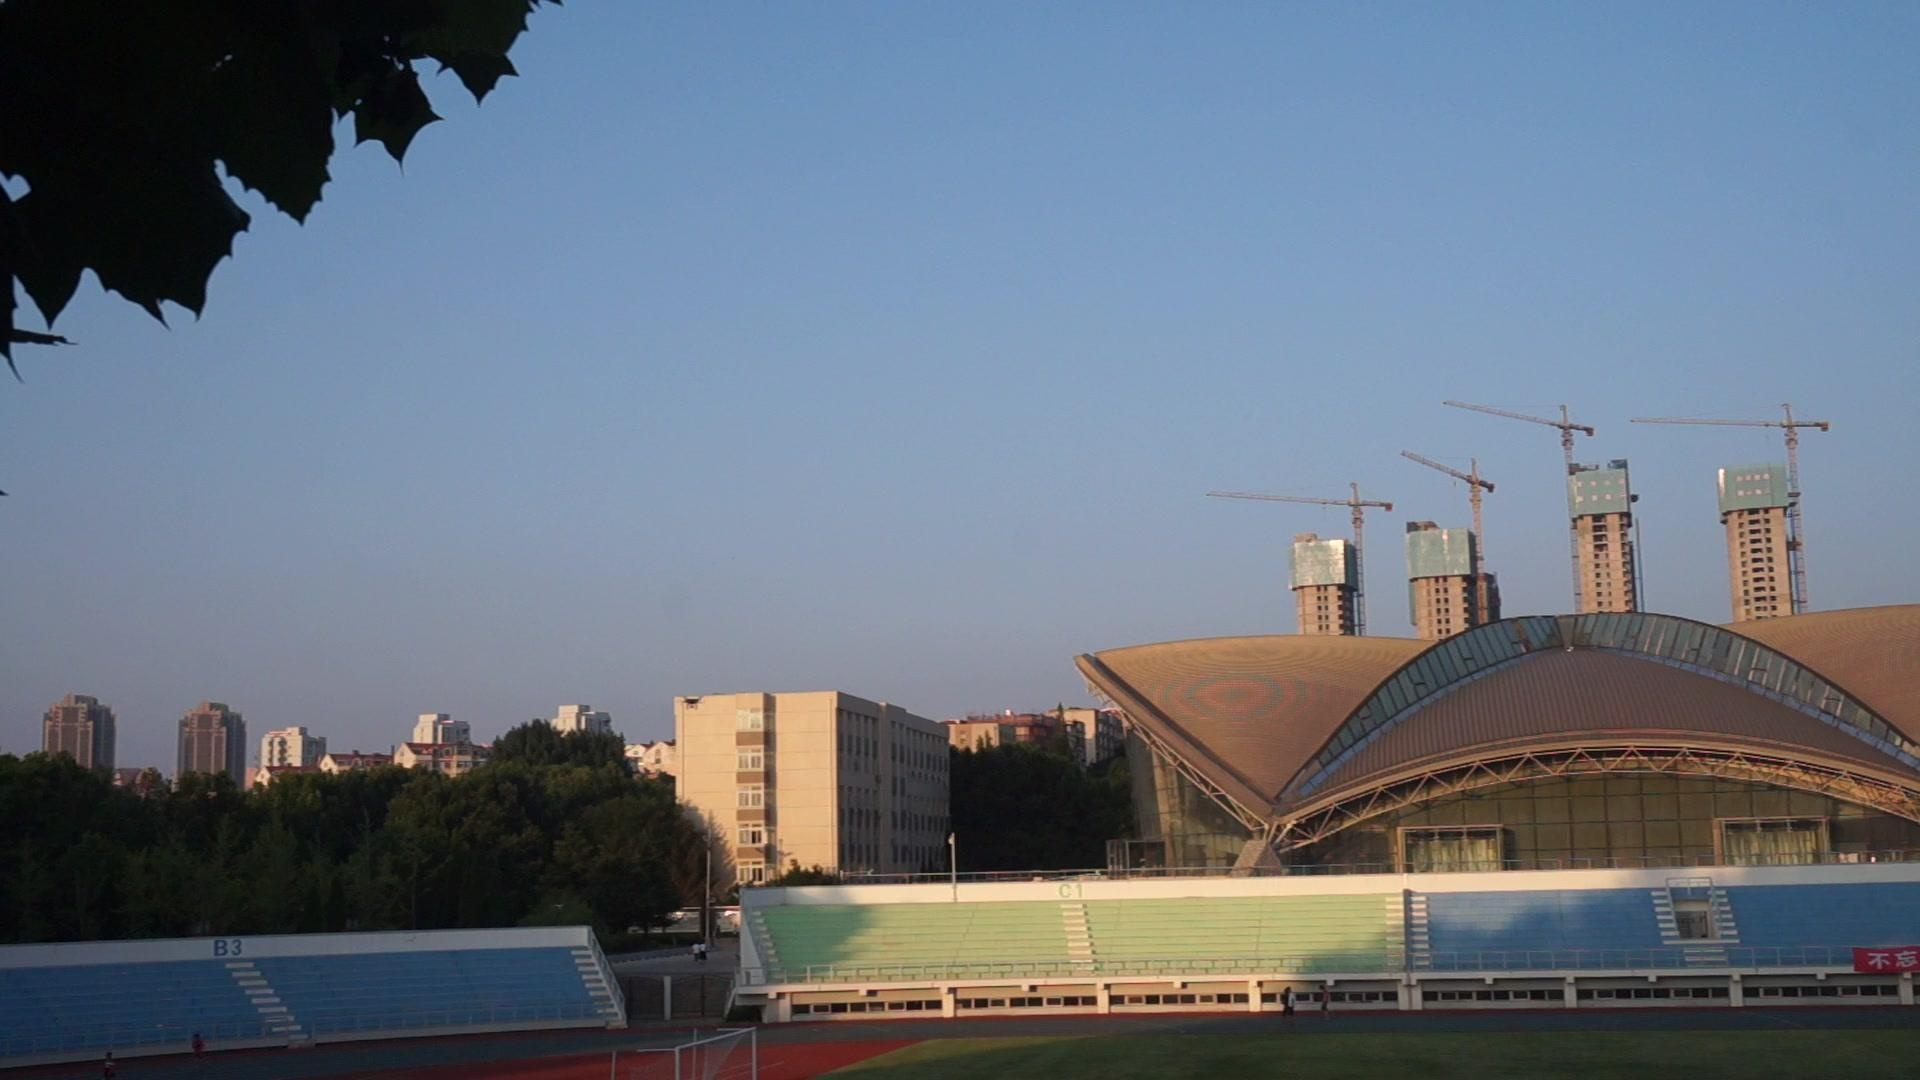UAV: (684, 696, 705, 711)
